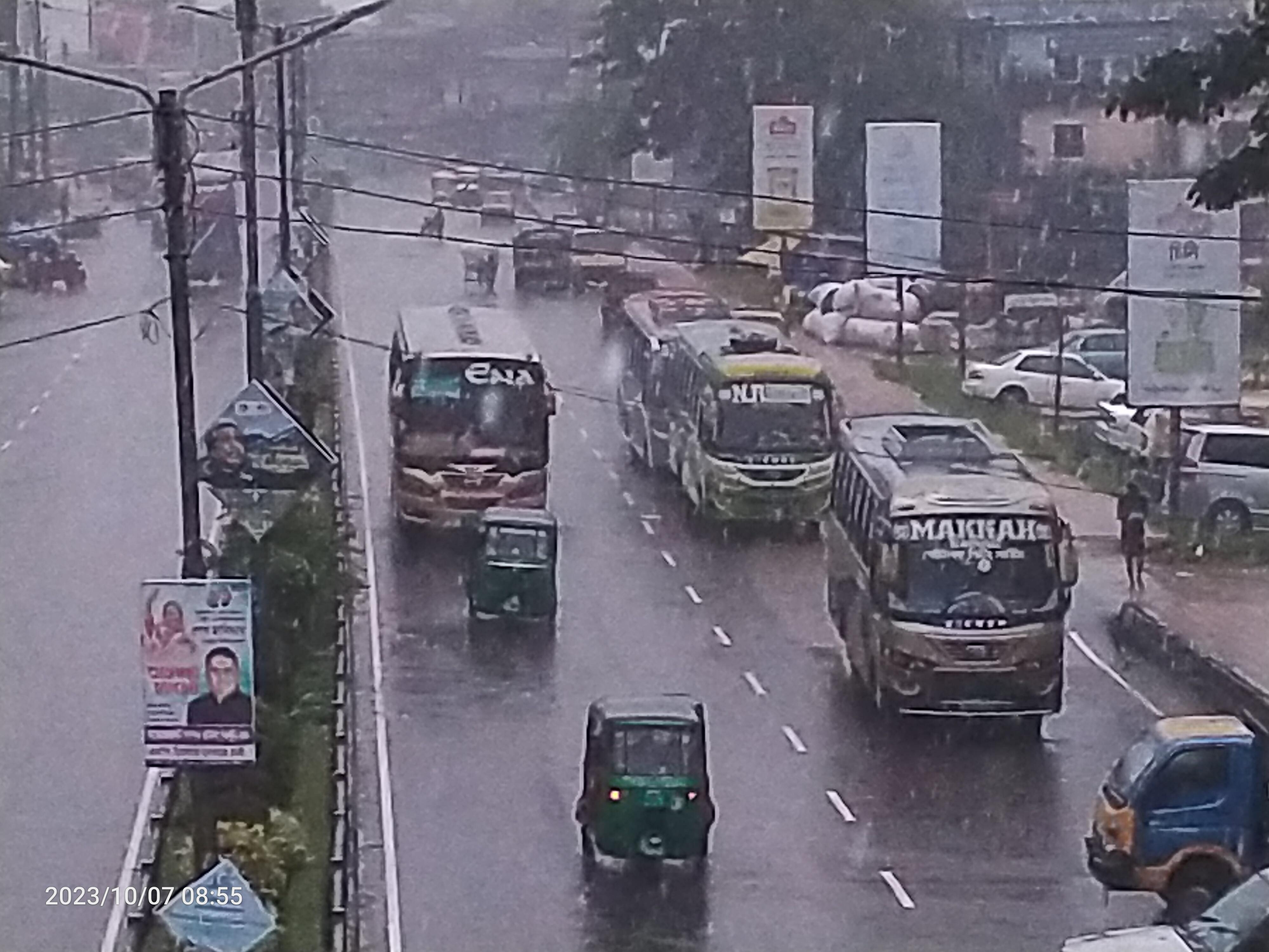Bus: (808, 397, 1101, 752), (367, 285, 565, 556), (644, 307, 847, 538)
Car: (938, 327, 1159, 438), (1150, 396, 1269, 571)
Truck: (1061, 692, 1269, 911)
